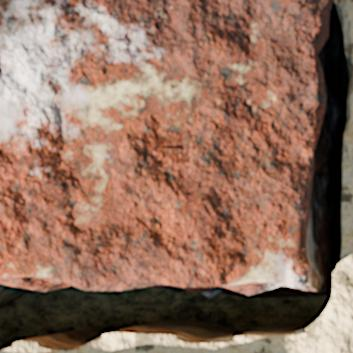brick: (0, 0, 331, 292)
crack: (0, 0, 352, 352)
